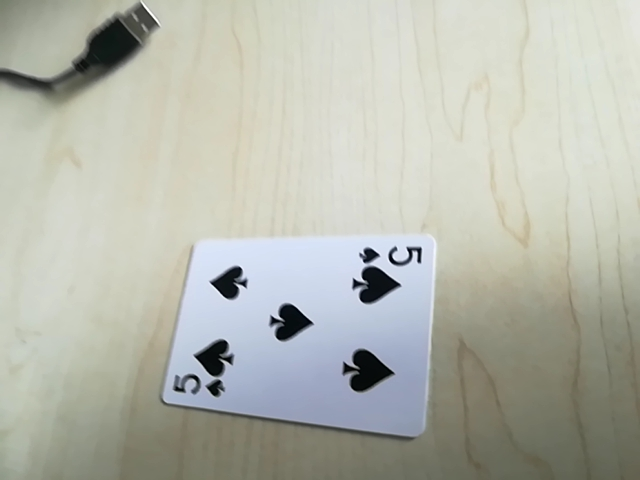ht 5: (357, 239, 426, 271), (165, 372, 230, 401)
